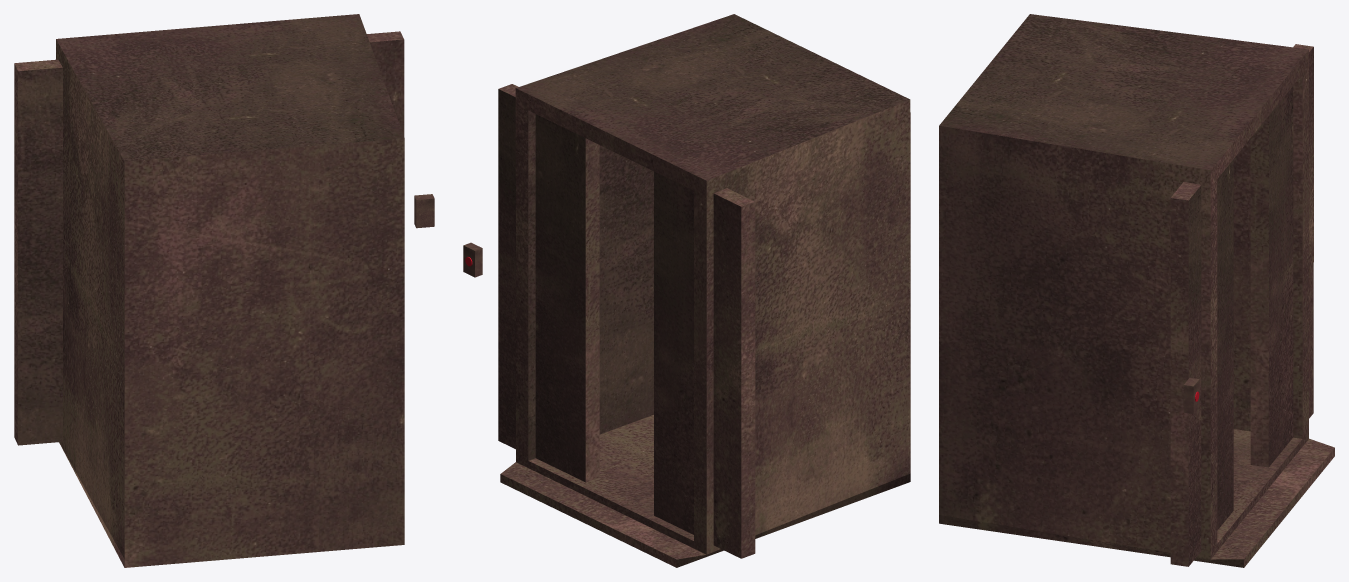
The model's file is floor-02-area-01.fbx.
3 renders of one model, left to right at view 1: azimuth 30°, elevation 25°; view 2: azimuth 150°, elevation 25°; view 3: azimuth 270°, elevation 25°, orthographic. The views are drawn at different scales.
Visible parts, largest first — view 1: elevator-shell, door, door.001, button-box; view 2: elevator-shell, door, door.001, button-box; view 3: elevator-shell, door.001, door, button-box.
Boxes of the visible parts, x1=… form: elevator-shell: x1=56, y1=14, x2=404, y2=567; door: x1=14, y1=59, x2=62, y2=445; door.001: x1=367, y1=31, x2=404, y2=136; button-box: x1=414, y1=194, x2=434, y2=228; elevator-shell: x1=500, y1=14, x2=910, y2=567; door: x1=654, y1=171, x2=755, y2=558; door.001: x1=498, y1=84, x2=599, y2=482; button-box: x1=463, y1=242, x2=482, y2=277; elevator-shell: x1=939, y1=14, x2=1334, y2=567; door.001: x1=1170, y1=159, x2=1233, y2=566; door: x1=1250, y1=44, x2=1313, y2=467; button-box: x1=1183, y1=378, x2=1199, y2=413.
Size of the model in its own units: 251 by 249 by 224.
